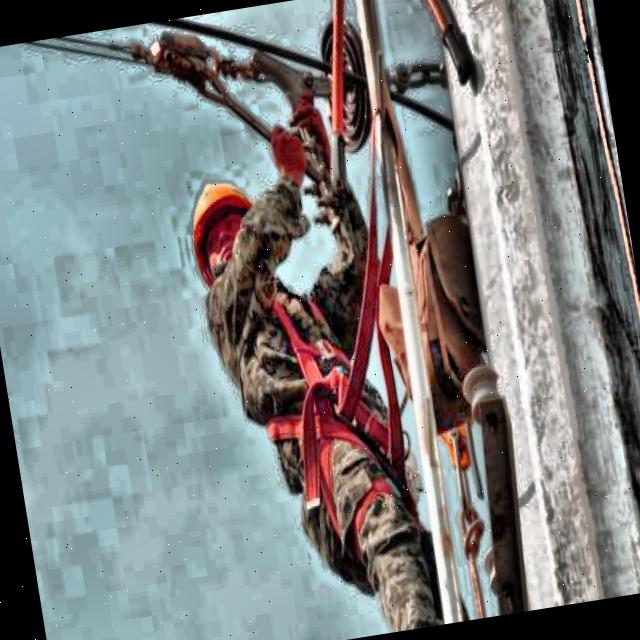helmet: (174, 163, 272, 299)
